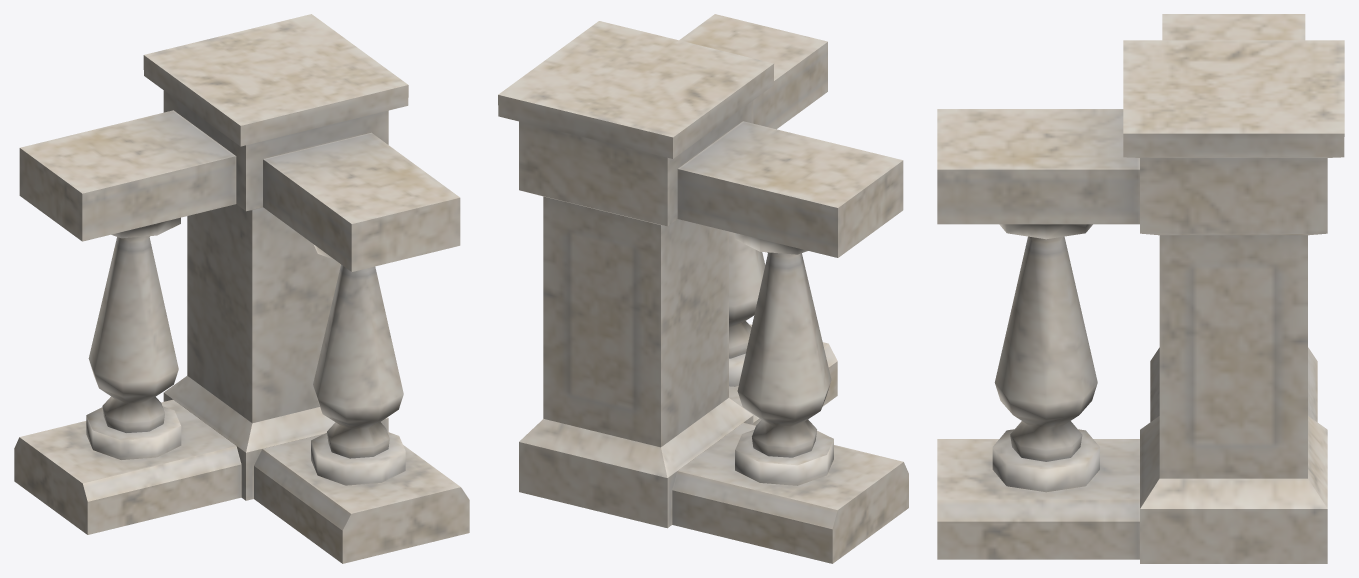
File: EP1_StoneHandRail_corner.fbx
3 views of the same model, side by side, from view 1: azimuth 30°, elevation 25°; view 2: azimuth 150°, elevation 25°; view 3: azimuth 270°, elevation 25° (orthographic). The views are drawn at different scales.
Parts seen in each view (by area): view 1: EP1_StoneHandRail_corner; view 2: EP1_StoneHandRail_corner; view 3: EP1_StoneHandRail_corner.
Boxes of the visible parts, left/top/right/bottom form: EP1_StoneHandRail_corner: left=14, top=14, right=469, bottom=563; EP1_StoneHandRail_corner: left=498, top=14, right=908, bottom=563; EP1_StoneHandRail_corner: left=937, top=14, right=1344, bottom=563.
Size of the model in its own units: 0.6865 by 0.8139 by 0.6865.
Materials: 1 (1 with a texture image).
